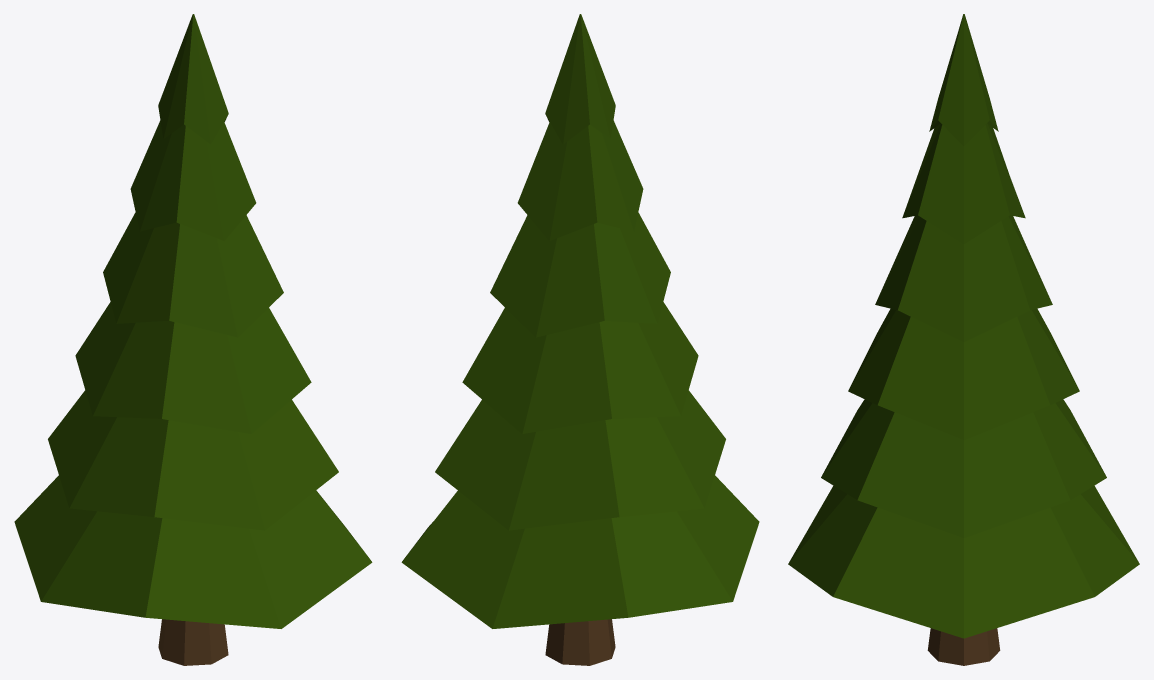
Rendered from lowPoly_pineTree.fbx.
The picture shows the model from 3 angles, left to right: view 1: azimuth 30°, elevation 25°; view 2: azimuth 150°, elevation 25°; view 3: azimuth 270°, elevation 25°; orthographic projection.
Visible parts, largest first — view 1: pine; view 2: pine; view 3: pine.
Boxes of the visible parts, <box> form: pine: <box>14,14,372,665</box>; pine: <box>401,14,759,665</box>; pine: <box>788,14,1139,665</box>.
Bounding box in the file's own units: 2.02 × 4.02 × 2.02.
